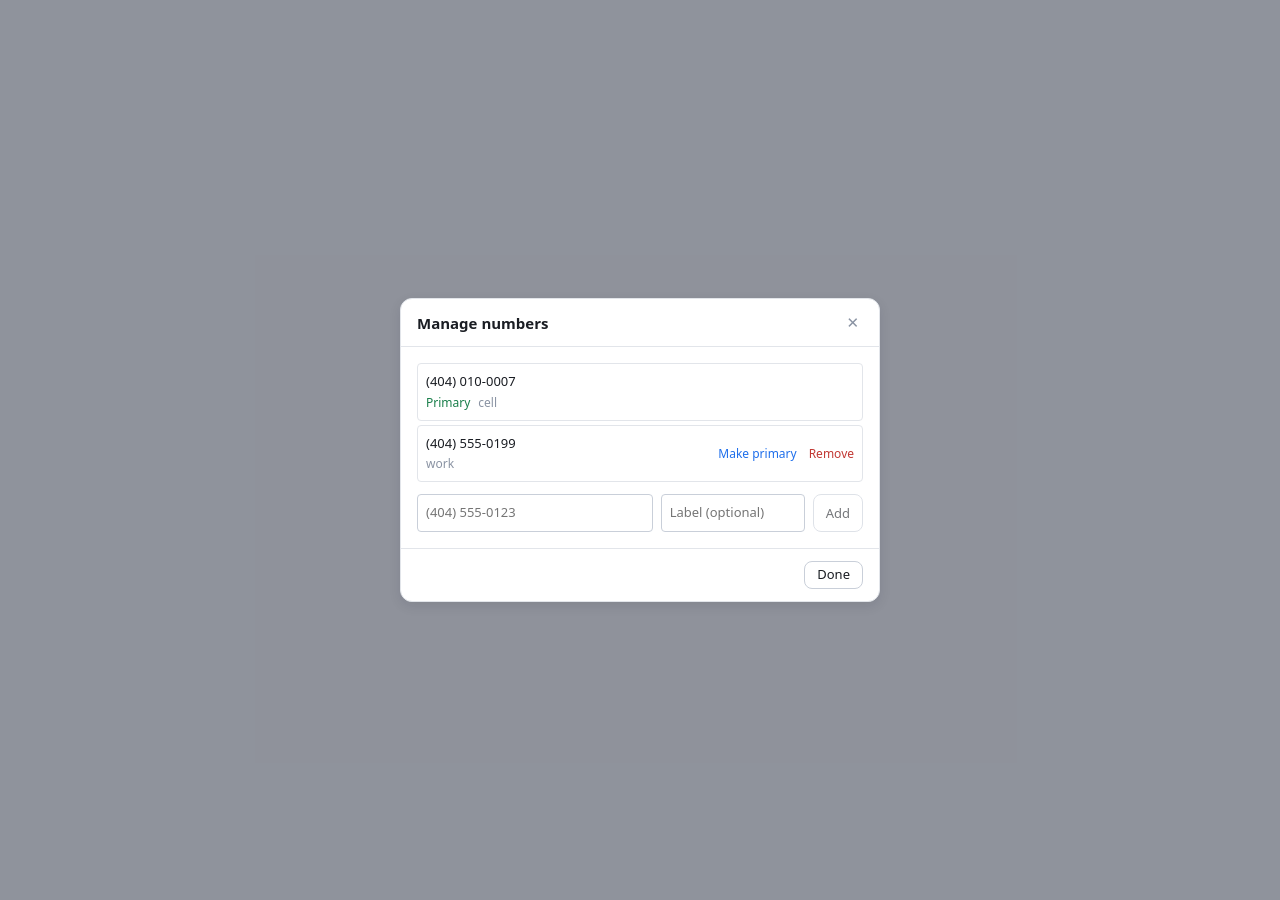
it: PhoneManager › shows inline error and blocks Add when phone is invalid
Type "404" into the field named "New phone number". click: [535, 513]
box: [417,494,653,532]
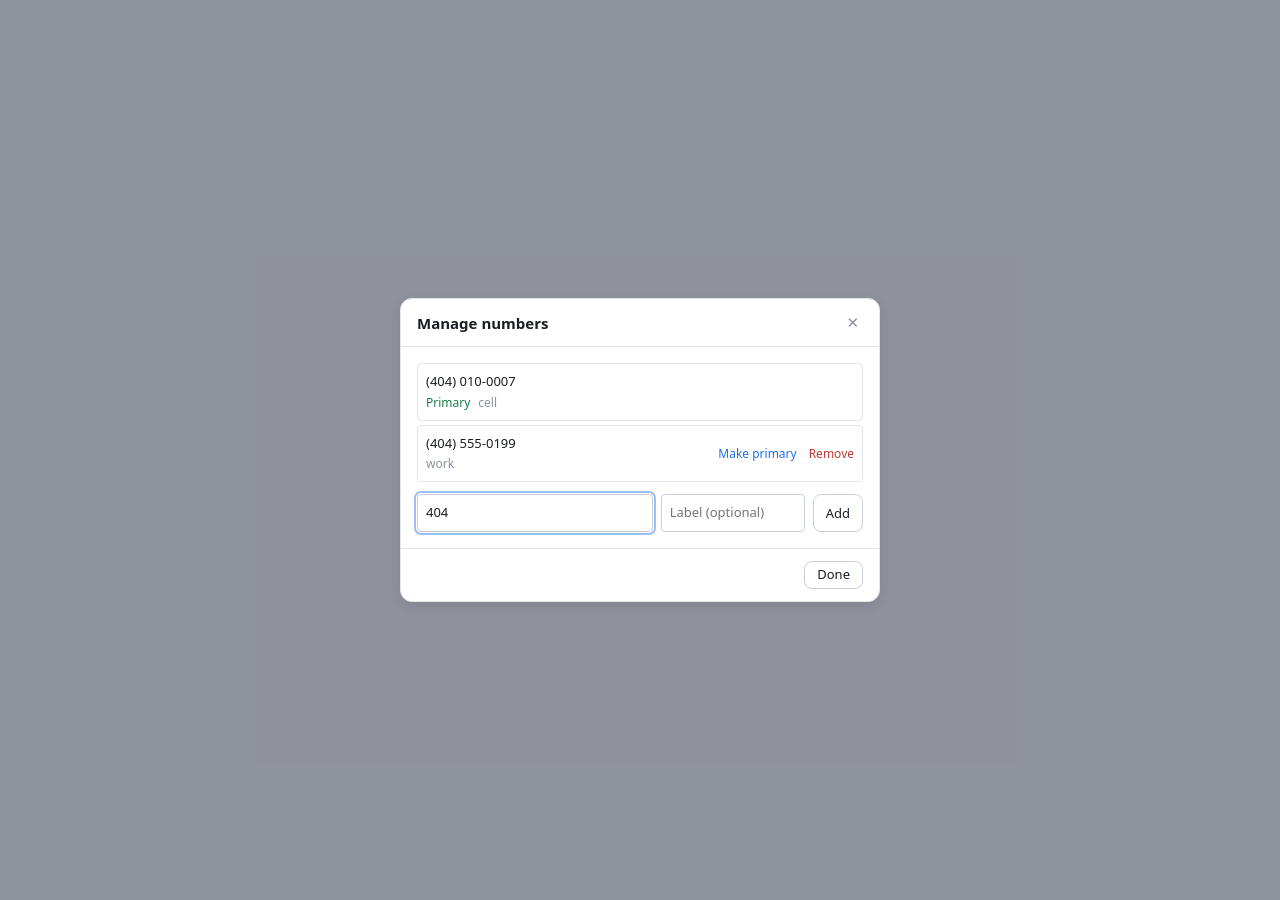
Click the button "Add". click: [838, 513]
box: [813,494,863,532]
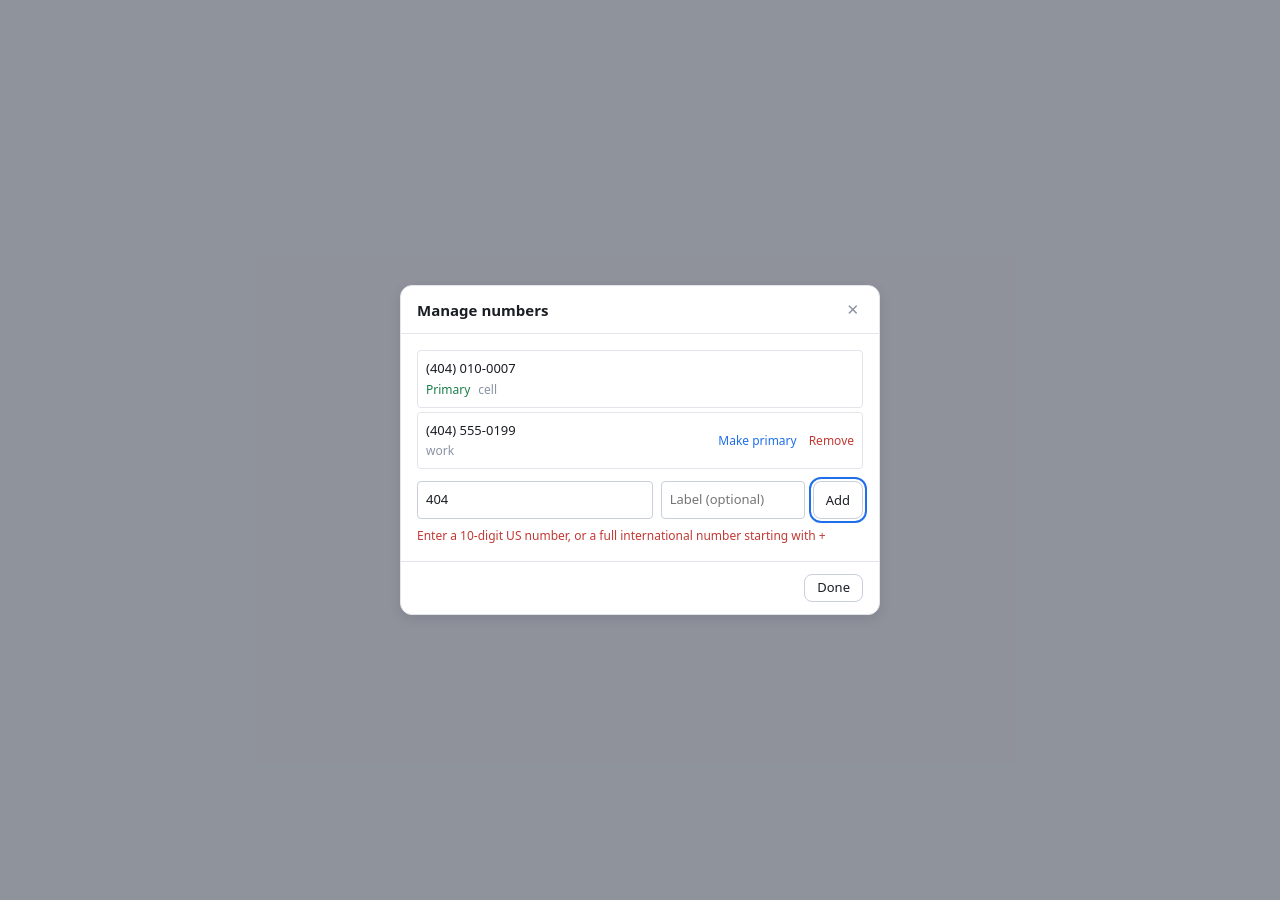
expect the message shows "Enter a 10-digit US number": met, box [417,527,826,544]
